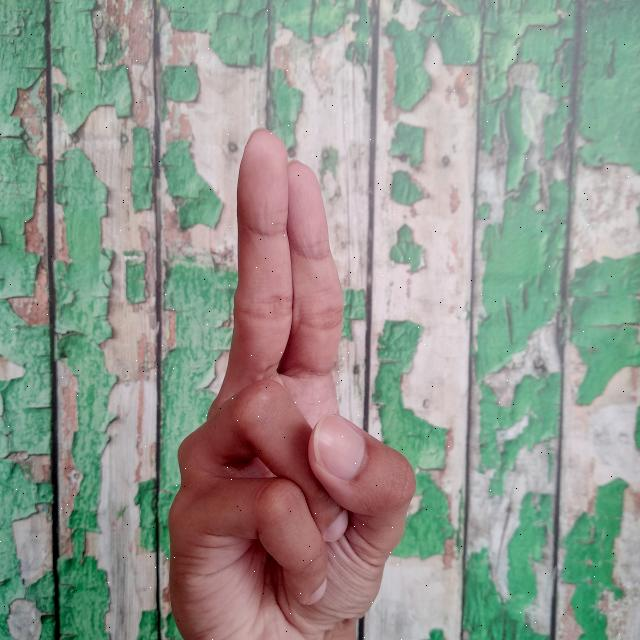U: (156, 123, 420, 640)
